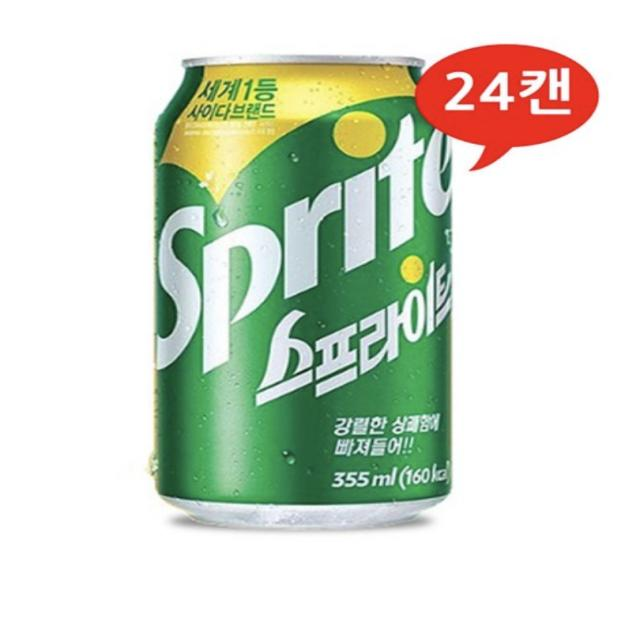recyclable: (145, 36, 463, 537)
